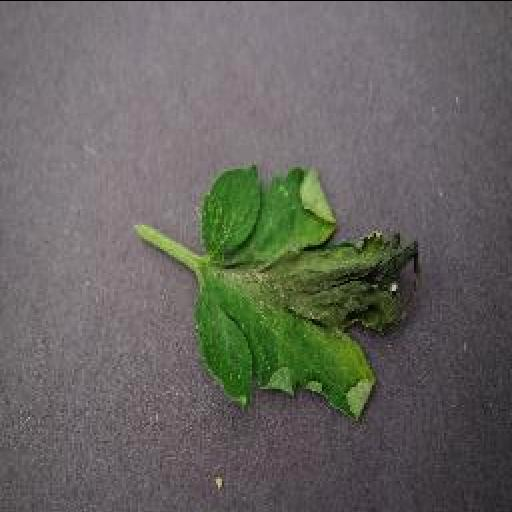disease_tomato: (188, 155, 424, 417)
